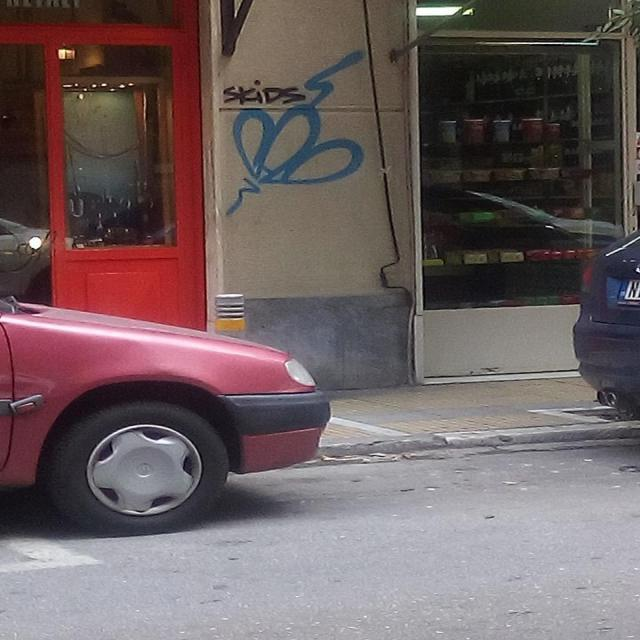nonspitting: (225, 51, 365, 212), (225, 77, 306, 105)
